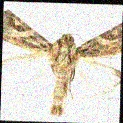Spodoptera litura: (2, 10, 121, 118)
